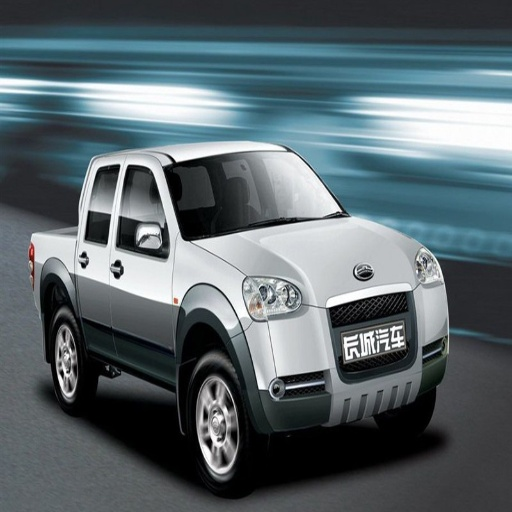front_bumper: (248, 285, 445, 427)
front_right_door: (108, 163, 176, 377)
front_right_light: (243, 278, 305, 319)
tailgate: (352, 228, 425, 285)
trunk: (294, 233, 381, 306)
